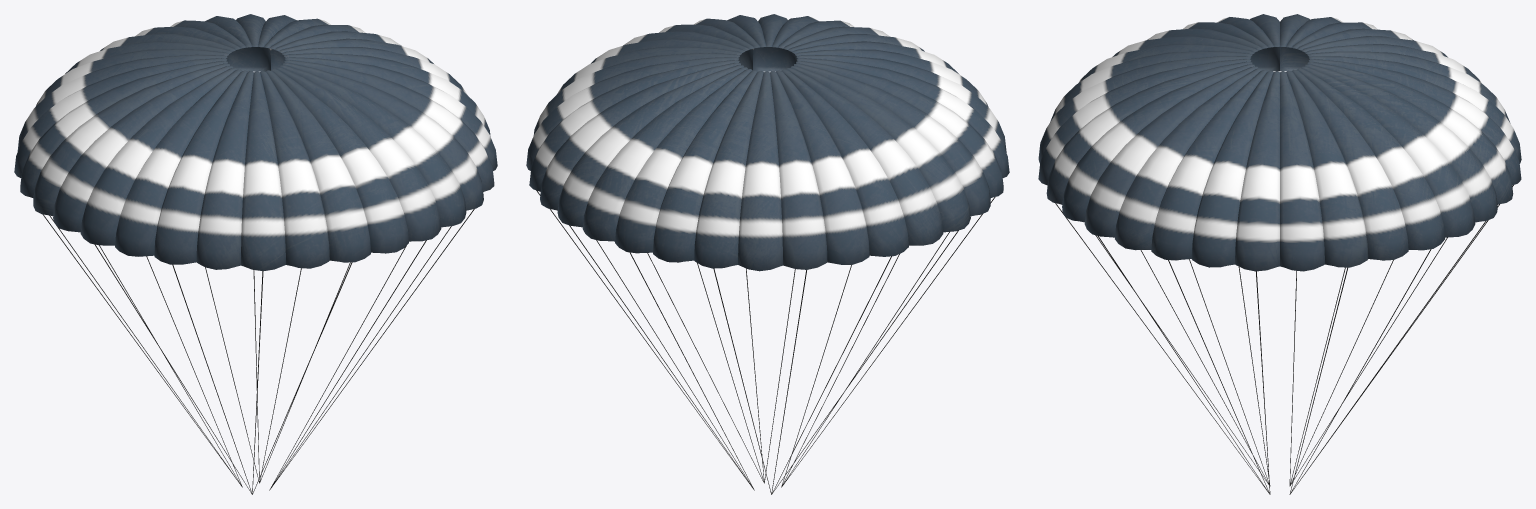
File: Chute.glb
3 renders of one model, left to right at view 1: azimuth 30°, elevation 25°; view 2: azimuth 150°, elevation 25°; view 3: azimuth 270°, elevation 25°, orthographic.
Visible parts, largest first — view 1: BRS_AirDrop_Chute; view 2: BRS_AirDrop_Chute; view 3: BRS_AirDrop_Chute.
Boxes of the visible parts, box(x1,y1,x2,y2) form: BRS_AirDrop_Chute: box(14, 14, 497, 494); BRS_AirDrop_Chute: box(526, 14, 1009, 494); BRS_AirDrop_Chute: box(1038, 14, 1521, 494).
Bounding box in the file's own units: 10.52 × 10.39 × 10.52.
1 material, 1 textured.
